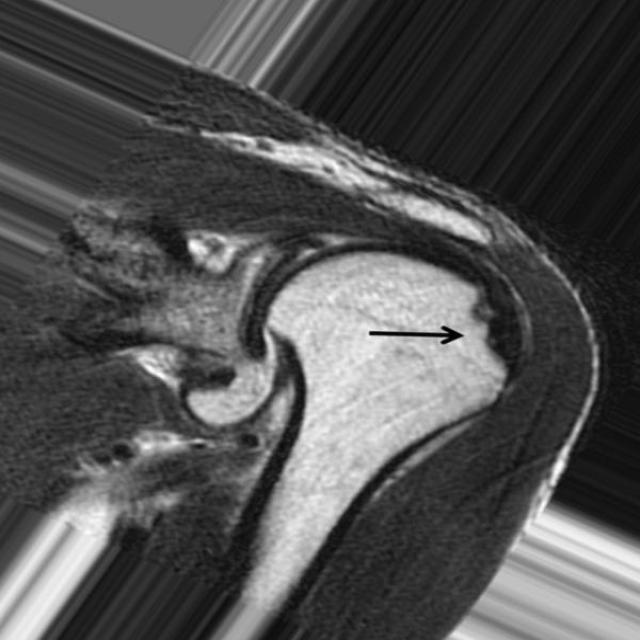Comminuted: (461, 258, 558, 392)
